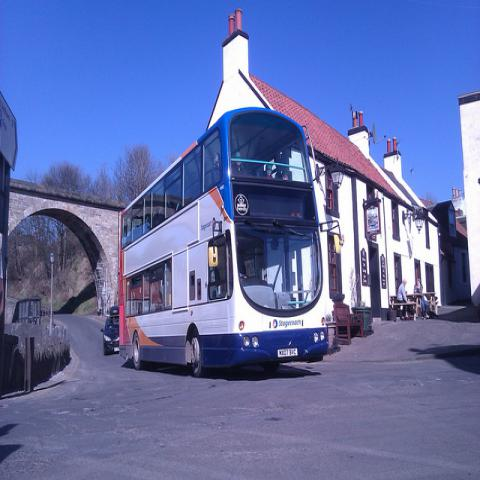bus: (119, 110, 339, 378)
car: (103, 316, 120, 353)
